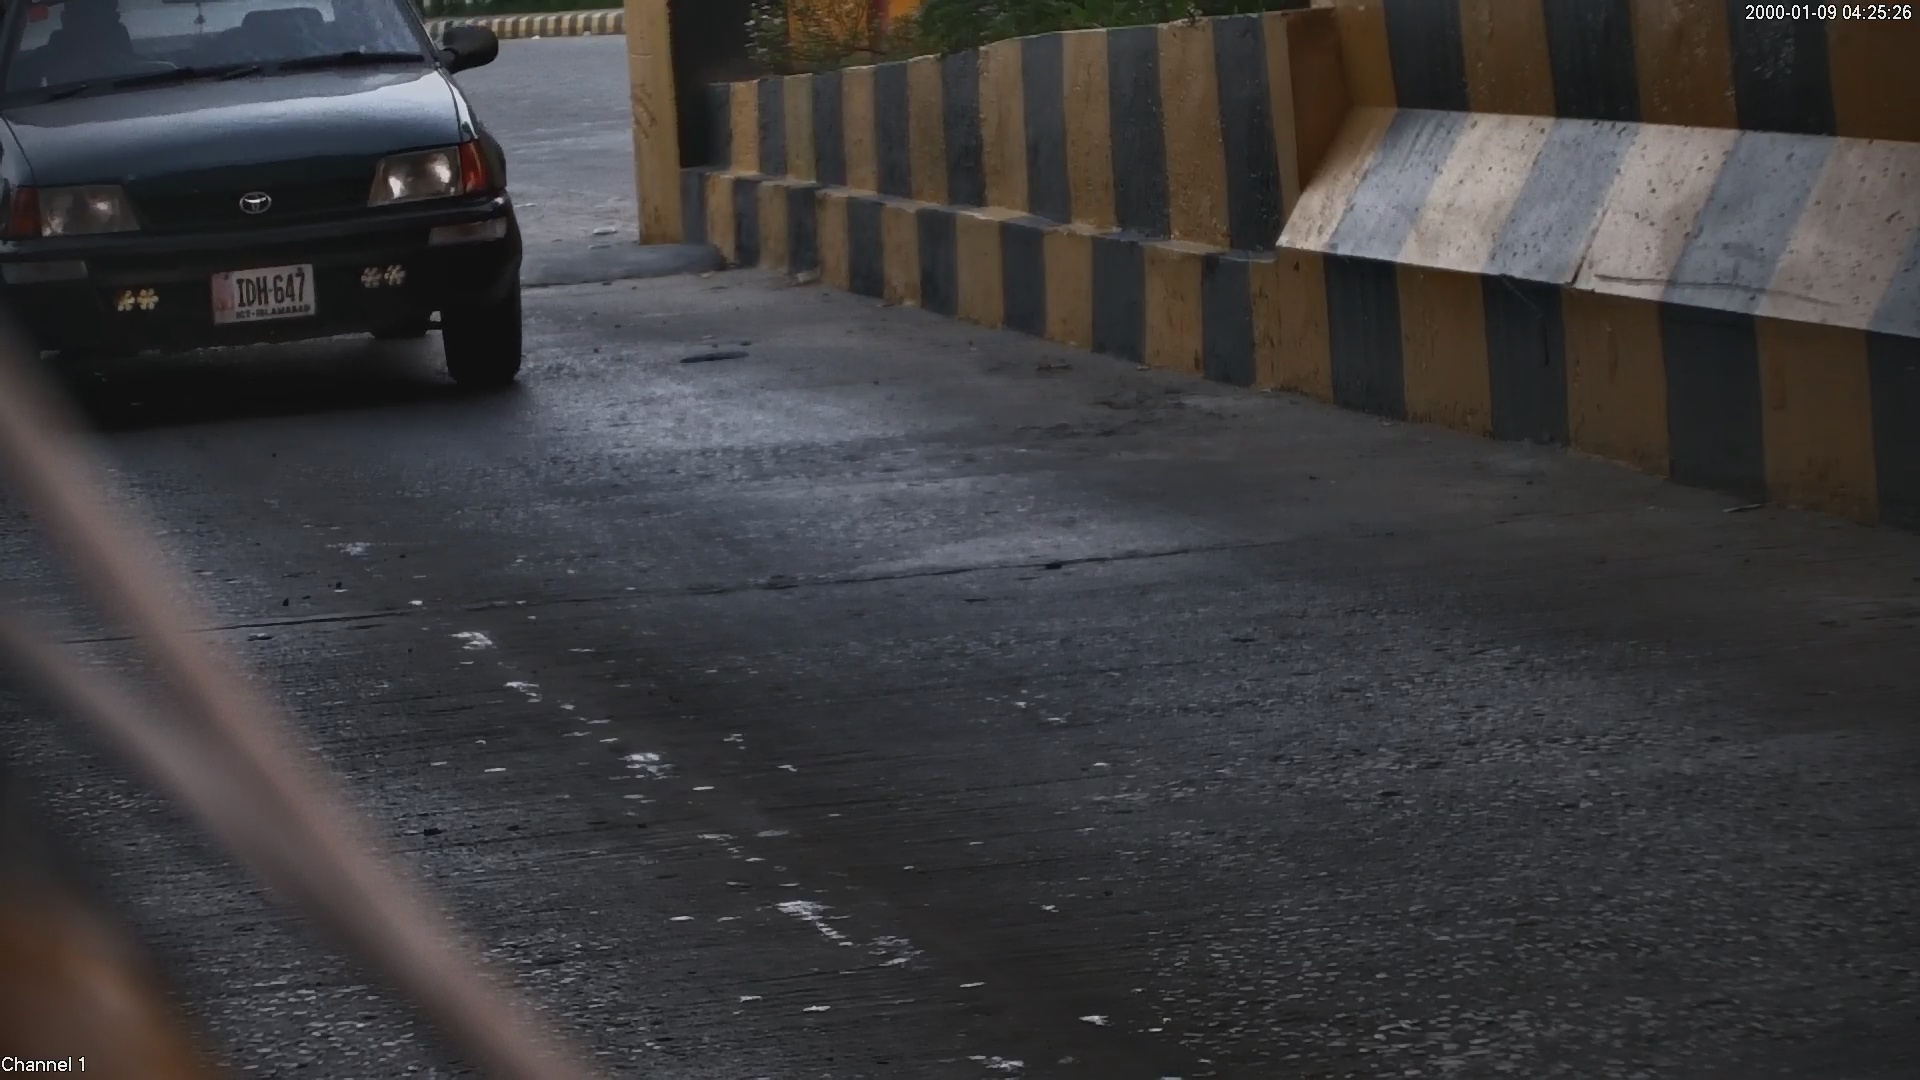Number_Plate: (195, 259, 328, 331)
